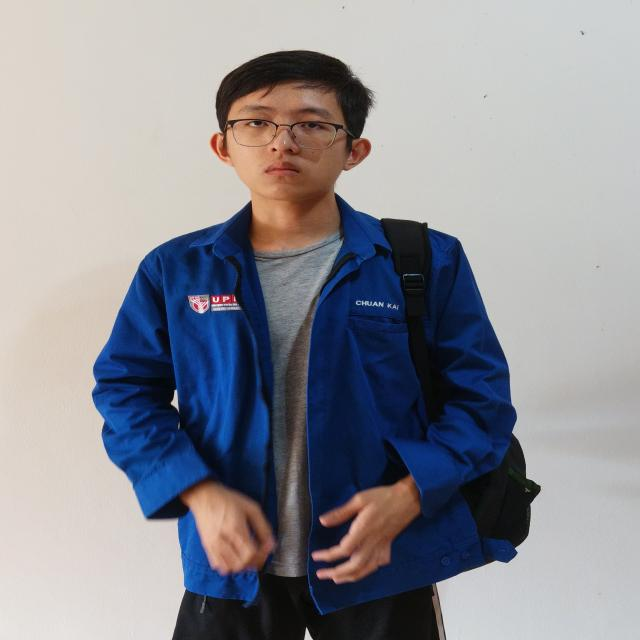person_with_labcoat: (93, 51, 539, 640)
